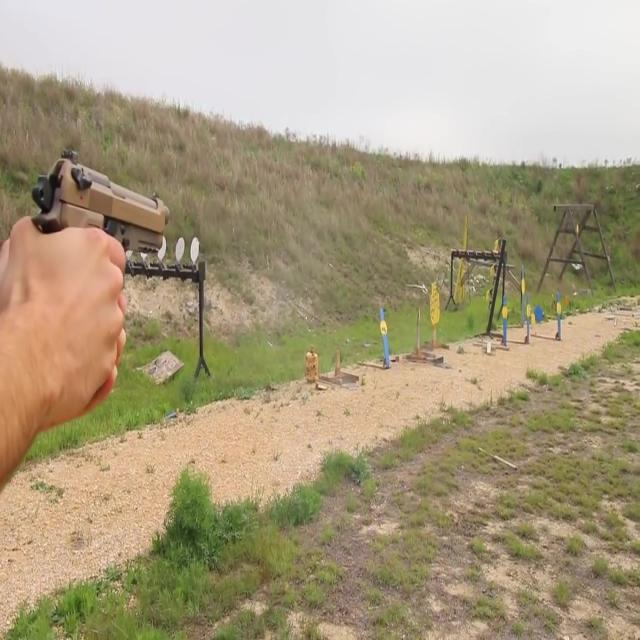Weapon: (21, 134, 323, 408)
